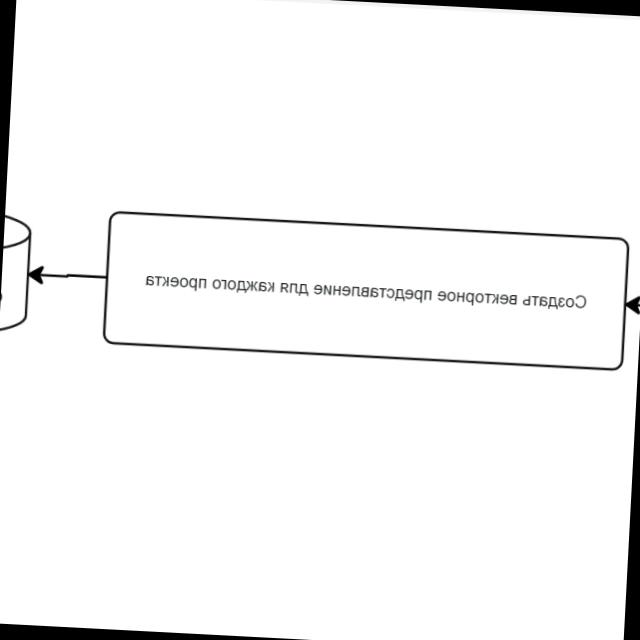arrow: (28, 260, 108, 290)
rectangle: (101, 208, 630, 372)
